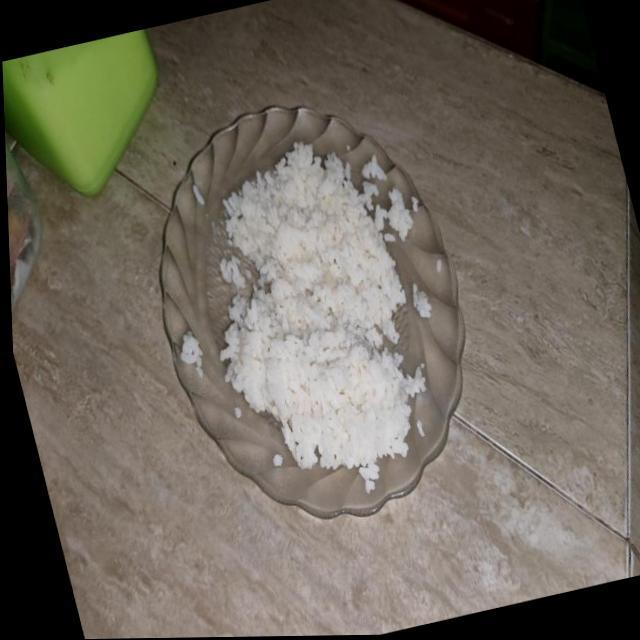nasi_putih: (220, 142, 425, 473)
